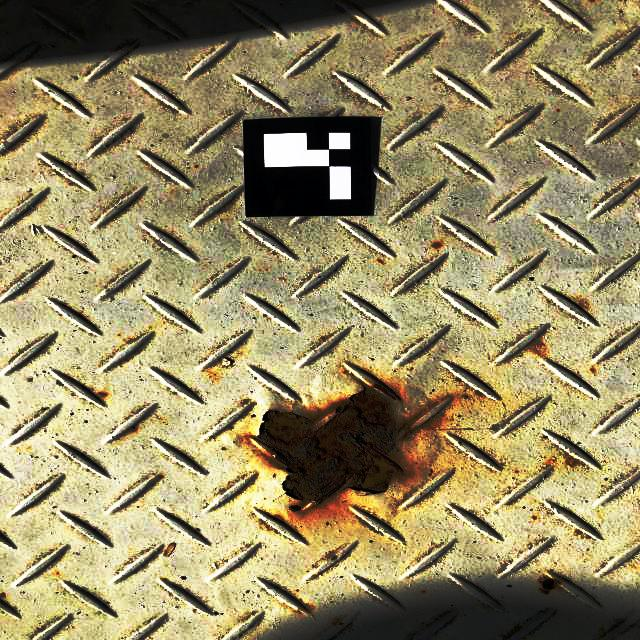Corrosion: (255, 390, 400, 509), (369, 382, 399, 403), (539, 577, 559, 595), (399, 420, 414, 439)
